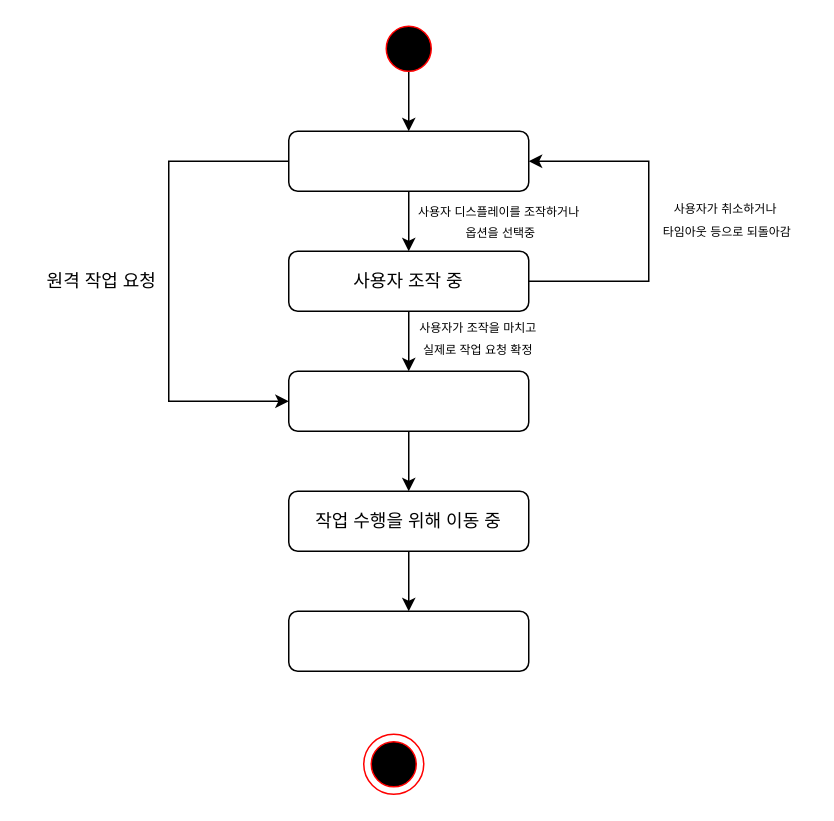
This 834x821 diagram has some shape labels left out. Here are the shapes that lost their labels. From the top down, the centre of each, then its label:
At point (408, 160): "대기 장소에서 대기".
At point (408, 400): "작업 할당됨".
